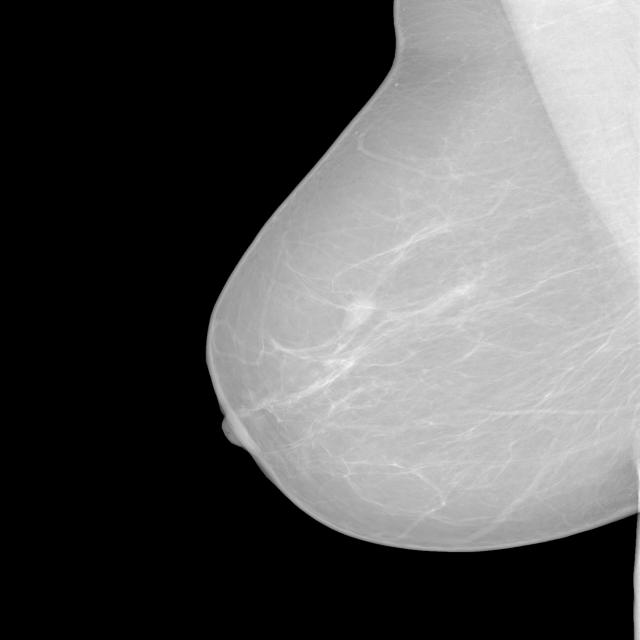Mass_1: (314, 279, 404, 348)
